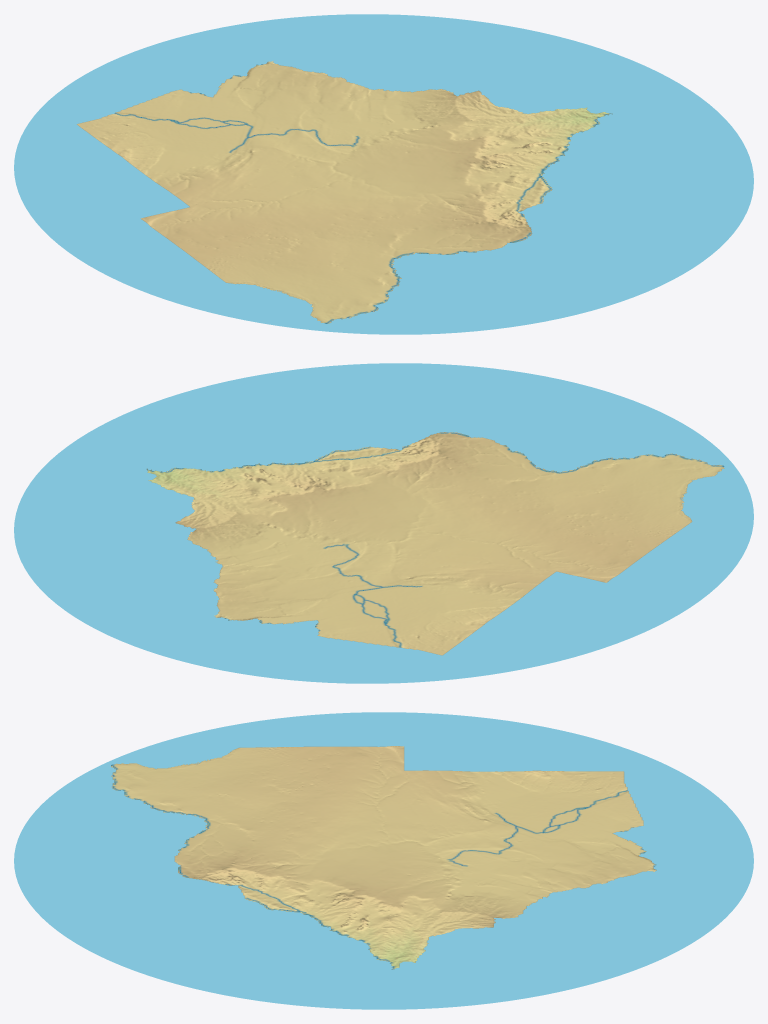
The model's file is BWA-terrain.glb.
The picture shows the model from 3 angles, top to bottom: view 1: azimuth 30°, elevation 25°; view 2: azimuth 150°, elevation 25°; view 3: azimuth 270°, elevation 25°; orthographic projection. The views are drawn at different scales.
Parts seen in each view (by area): view 1: Relevo com hidrografia; view 2: Relevo com hidrografia; view 3: Relevo com hidrografia.
Part boxes in pixels (x1,y1,x2,y2): Relevo com hidrografia: (14,14,753,334); Relevo com hidrografia: (14,363,753,683); Relevo com hidrografia: (14,712,753,1009).
Size of the model in its own units: 2.07 by 0.0176 by 2.18.
2 materials, 1 textured.
